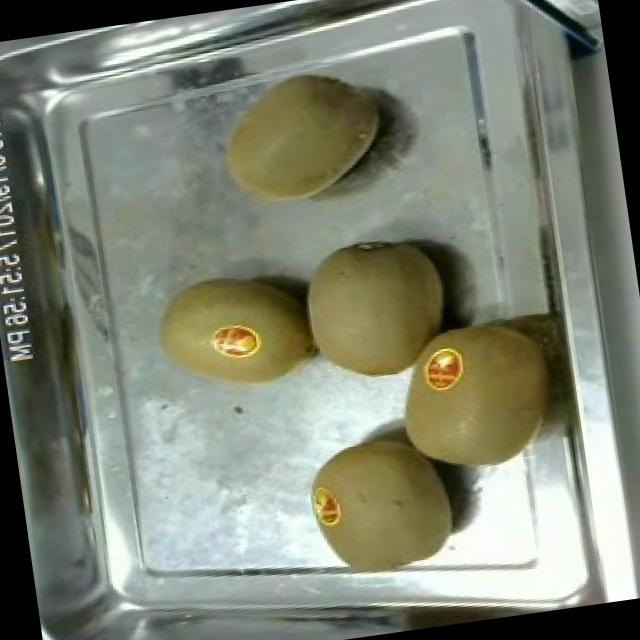Fruit: (377, 310, 569, 492), (202, 57, 400, 223), (292, 421, 471, 596), (288, 226, 463, 396), (141, 258, 322, 412)
